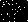person: (12, 9, 18, 21), (3, 11, 10, 21)
